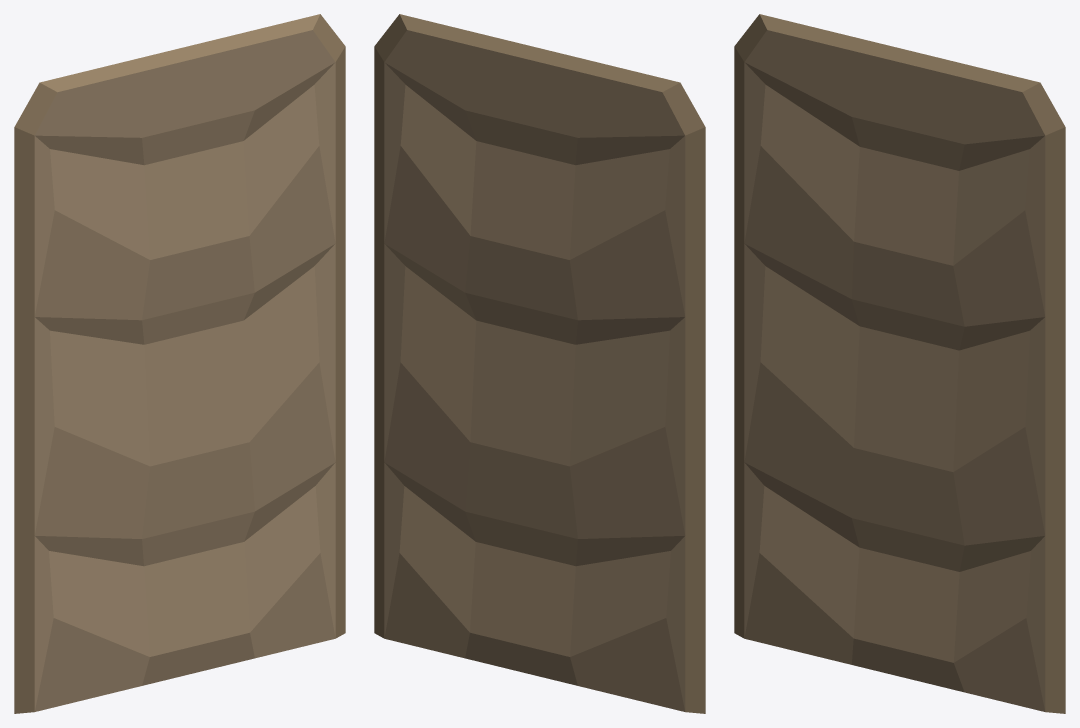
The model's file is SM_Bld_Tent_Sandbags_Door_02.glb.
3 views of the same model, side by side, from view 1: azimuth 30°, elevation 25°; view 2: azimuth 150°, elevation 25°; view 3: azimuth 330°, elevation 25° (orthographic).
Parts seen in each view (by area): view 1: SM_Bld_Tent_Sandbags_Door_02; view 2: SM_Bld_Tent_Sandbags_Door_02; view 3: SM_Bld_Tent_Sandbags_Door_02.
Part boxes in pixels (left/top/right/bottom): SM_Bld_Tent_Sandbags_Door_02: left=14, top=14, right=345, bottom=713; SM_Bld_Tent_Sandbags_Door_02: left=374, top=14, right=705, bottom=713; SM_Bld_Tent_Sandbags_Door_02: left=734, top=14, right=1065, bottom=713.
Bounding box in the file's own units: 1.25 × 2.25 × 0.1061.
1 material, 1 textured.
